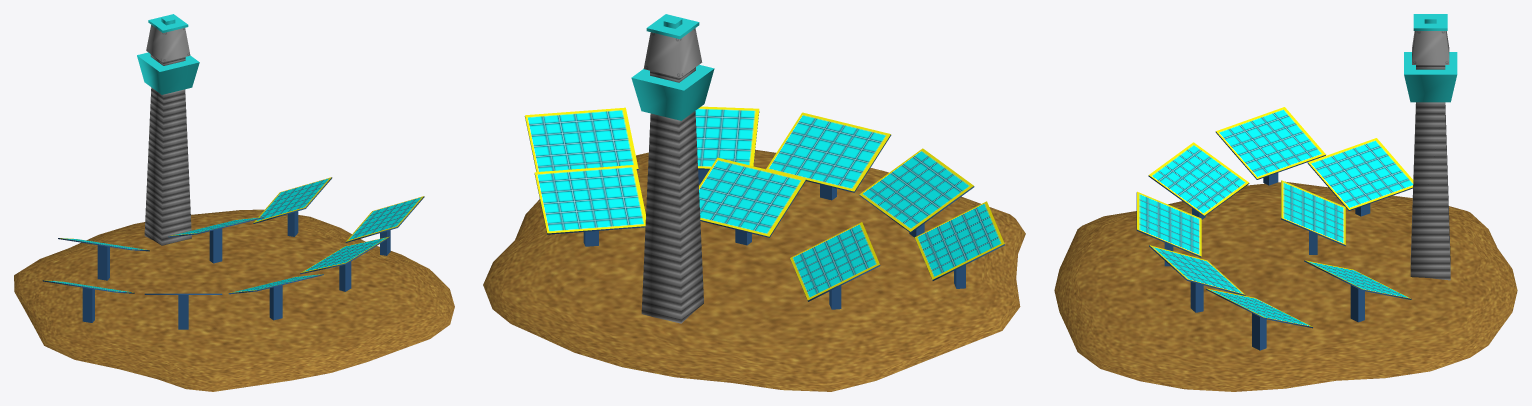
File: solarFarm_7_9_13.FBX
3 renders of one model, left to right at view 1: azimuth 30°, elevation 25°; view 2: azimuth 150°, elevation 25°; view 3: azimuth 270°, elevation 25°, orthographic. The views are drawn at different scales.
Parts seen in each view (by area): view 1: Sphere001, Box002, Box012, Box017, Box020, Box015, Box018, Box016, Box019, Box022; view 2: Sphere001, Box002, Box012, Box015, Box018, Box017, Box022, Box016, Box019, Box020; view 3: Sphere001, Box002, Box019, Box016, Box022, Box018, Box015, Box020, Box012, Box017.
Boxes of the visible parts, box(x1,y1,x2,y2) form: Sphere001: box(14, 209, 454, 391); Box002: box(137, 14, 199, 245); Box012: box(253, 177, 332, 236); Box017: box(345, 196, 424, 255); Box020: box(300, 236, 390, 291); Box015: box(228, 274, 323, 320); Box018: box(168, 217, 263, 263); Box016: box(58, 238, 149, 280); Box019: box(42, 280, 134, 322); Box022: box(144, 293, 222, 329); Sphere001: box(483, 149, 1025, 391); Box002: box(631, 14, 714, 323); Box012: box(534, 164, 645, 246); Box015: box(766, 112, 891, 200); Box018: box(699, 157, 806, 245); Box017: box(524, 107, 638, 171); Box022: box(859, 148, 974, 237); Box016: box(790, 222, 880, 309); Box019: box(914, 201, 1004, 288); Box020: box(695, 106, 759, 184); Sphere001: box(1054, 181, 1517, 391); Box002: box(1404, 14, 1457, 280); Box019: box(1215, 107, 1325, 185); Box016: box(1307, 138, 1413, 216); Box022: box(1148, 142, 1249, 219); Box018: box(1281, 180, 1345, 254); Box015: box(1136, 191, 1201, 266); Box020: box(1149, 245, 1245, 312); Box012: box(1304, 260, 1411, 322); Box017: box(1206, 288, 1312, 350).
Size of the model in its own units: 145 by 87.86 by 135.
1 material, 1 textured.
